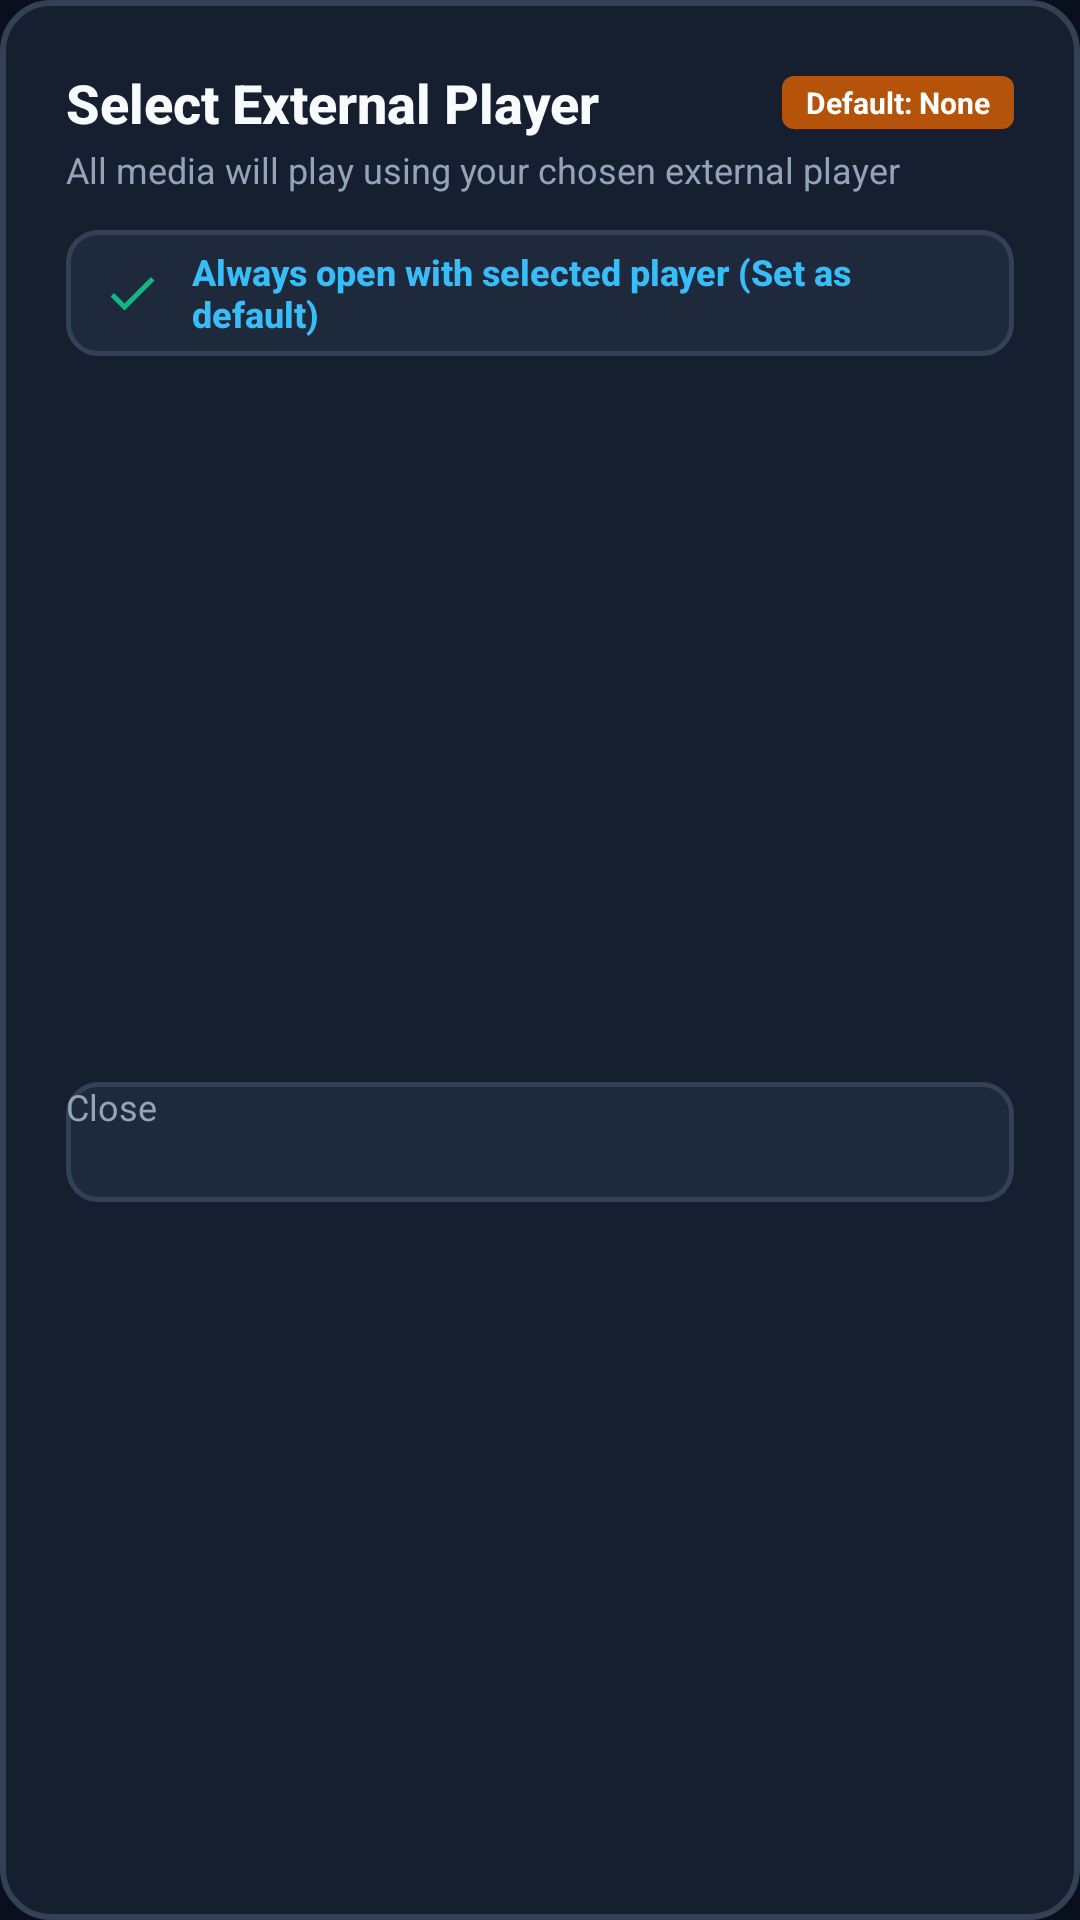

Screen size 1080x1920. Icon name, then its center in pixels as (x,y):
Checkbox: (132,294)
